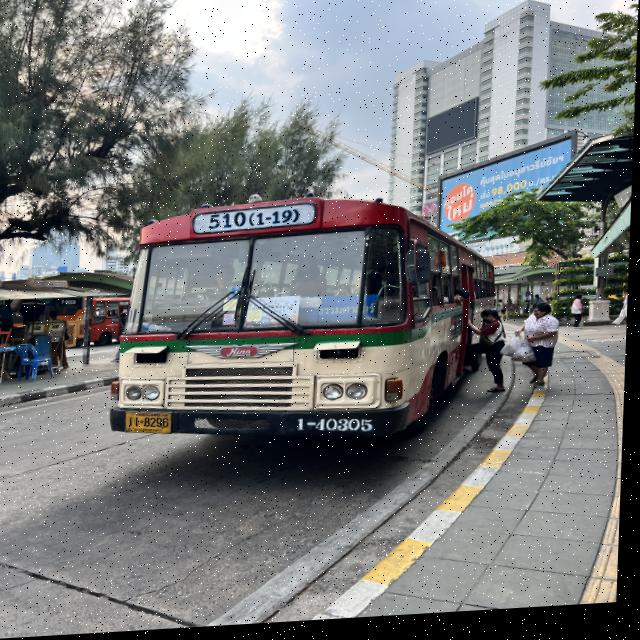BMTA-bus: (113, 202, 505, 448)
Bus Line Number: (196, 208, 318, 238)
Bus Side Number: (294, 413, 385, 446)
Destination Sign: (303, 295, 381, 328)
